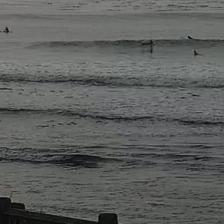surfer: (141, 40, 153, 46), (3, 27, 10, 33), (194, 50, 198, 55), (188, 36, 192, 40)
